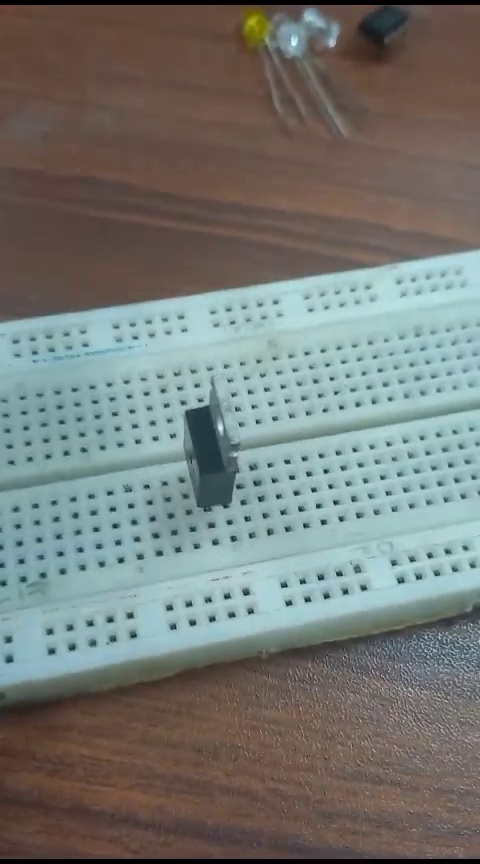voltage regulator: (168, 372, 241, 519)
